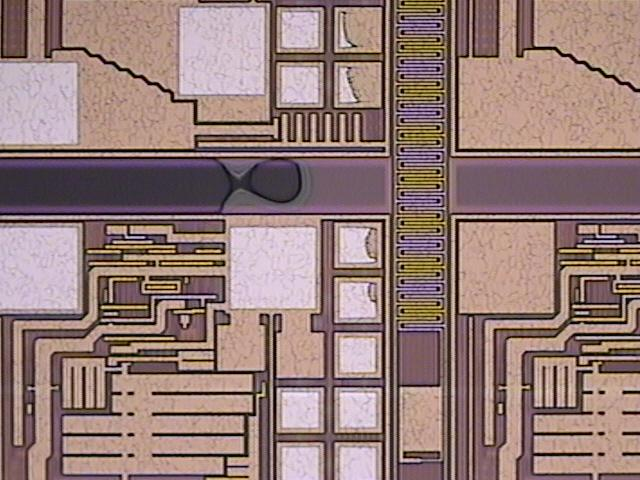COATING BAD: (1, 1, 396, 308)
